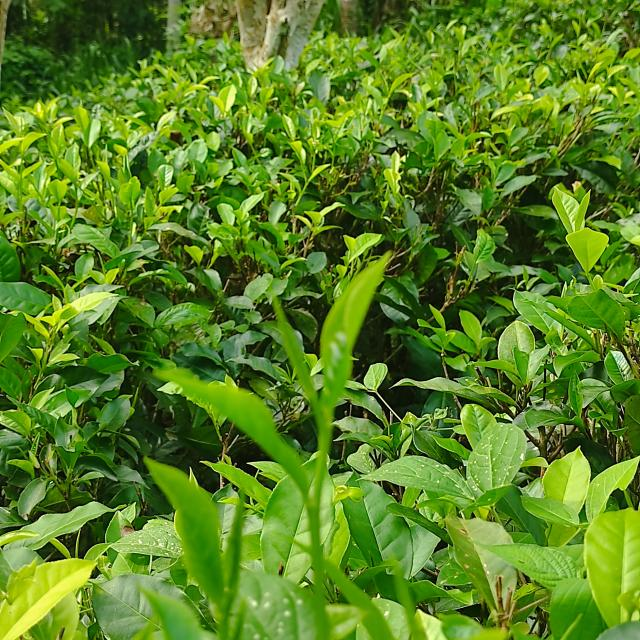unopened_leaf: (266, 285, 333, 436), (213, 483, 254, 616), (383, 539, 429, 640), (554, 607, 587, 640)
